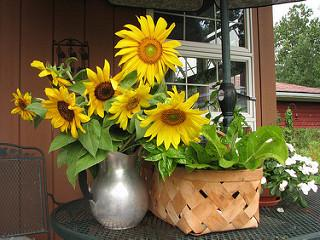sunflower: (116, 11, 181, 82), (143, 88, 203, 150), (42, 86, 89, 136), (83, 60, 123, 116), (11, 87, 35, 123)
